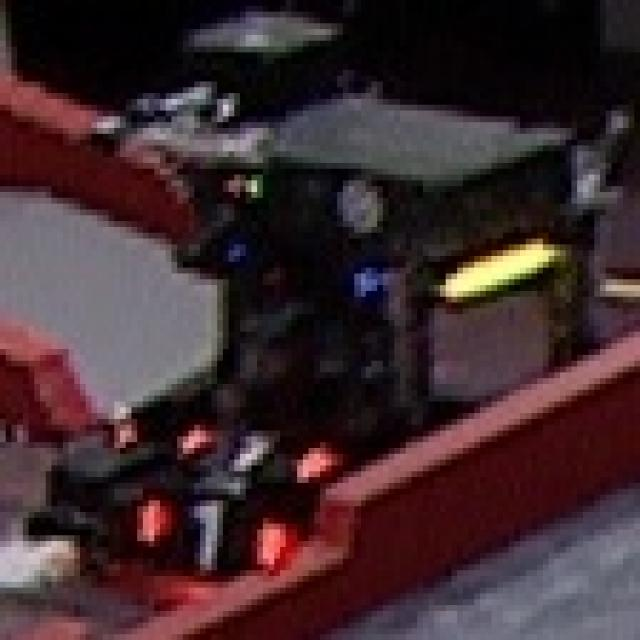R1: (166, 404, 354, 486), (117, 486, 294, 573)
